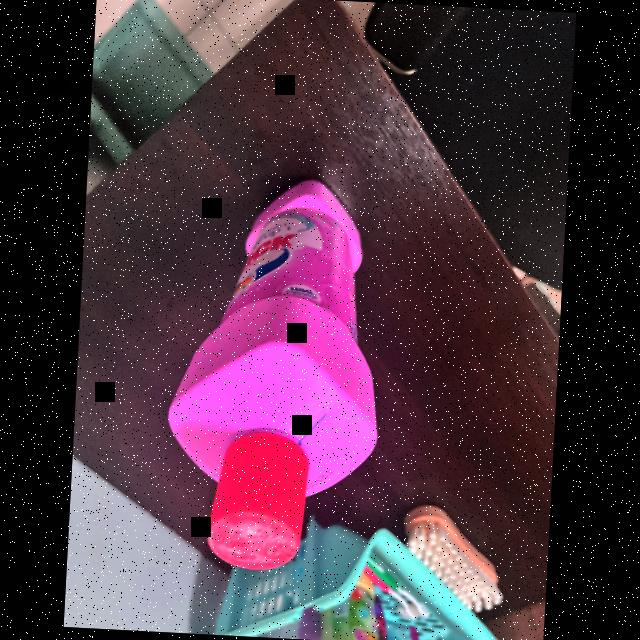chemical_plastic_bottle: (156, 167, 397, 576)
